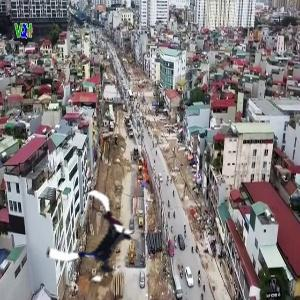drone: (49, 189, 144, 284)
